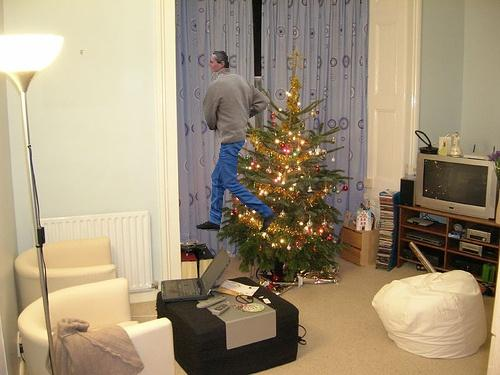tampered: (197, 52, 277, 233)
